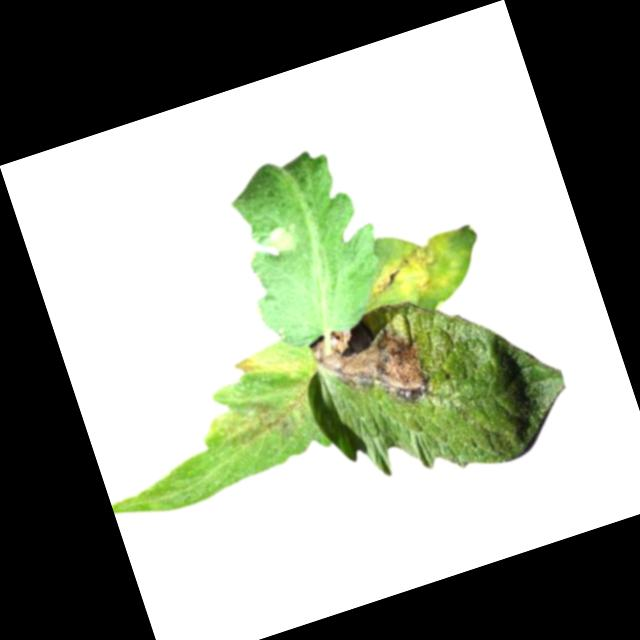Late_blight: (306, 306, 436, 427), (355, 228, 464, 313), (205, 383, 318, 462), (229, 334, 317, 399), (255, 220, 301, 260)
